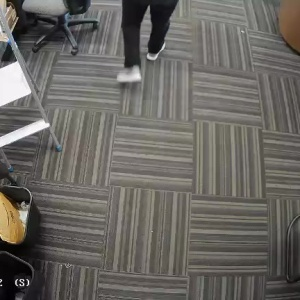person: (114, 0, 182, 89)
